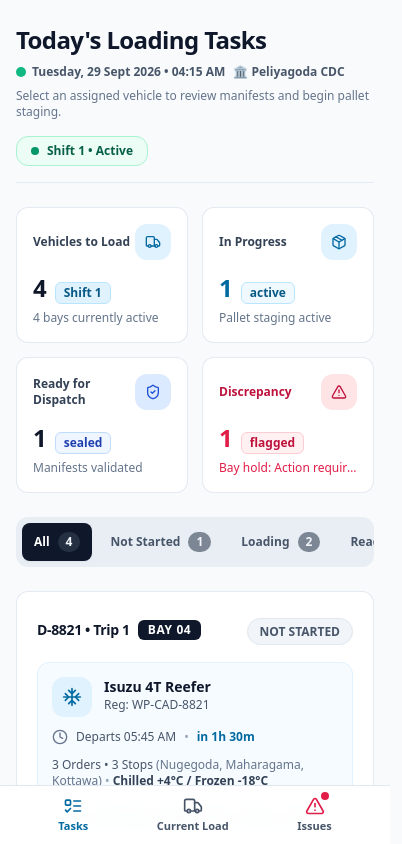
Test: Loader Portal: Responsive UX & Interaction Stabilization › 2. mobile navigation buttons switch view to All and Issues
Expected: the heading "Today's Loading Tasks" is shown, [16, 23, 266, 56]
Step 1. Click the button with id "mobile-nav-issues" → [314, 815], box [297, 796, 332, 834]
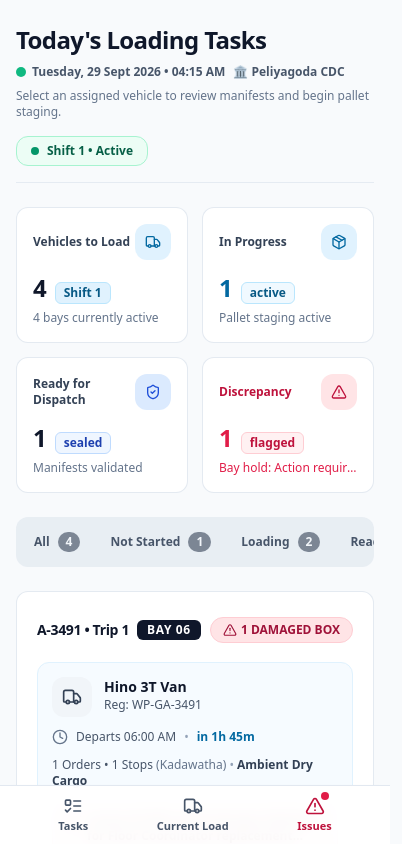
Expected: the heading "Hino 3T Van" is shown, [104, 677, 187, 697]
Expected: the heading "Isuzu 4T Reefer" is gone
Step 2. Click the button with id "mobile-nav-tasks" → [73, 815], box [58, 796, 88, 834]
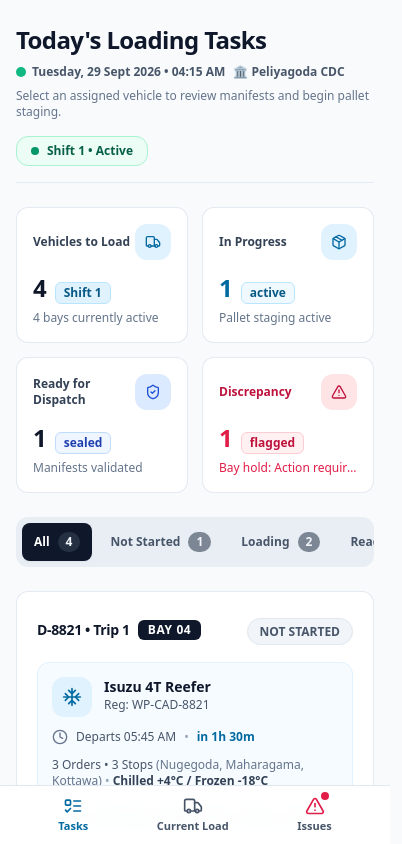
Expected: the heading "Isuzu 4T Reefer" is shown, [104, 677, 211, 697]
